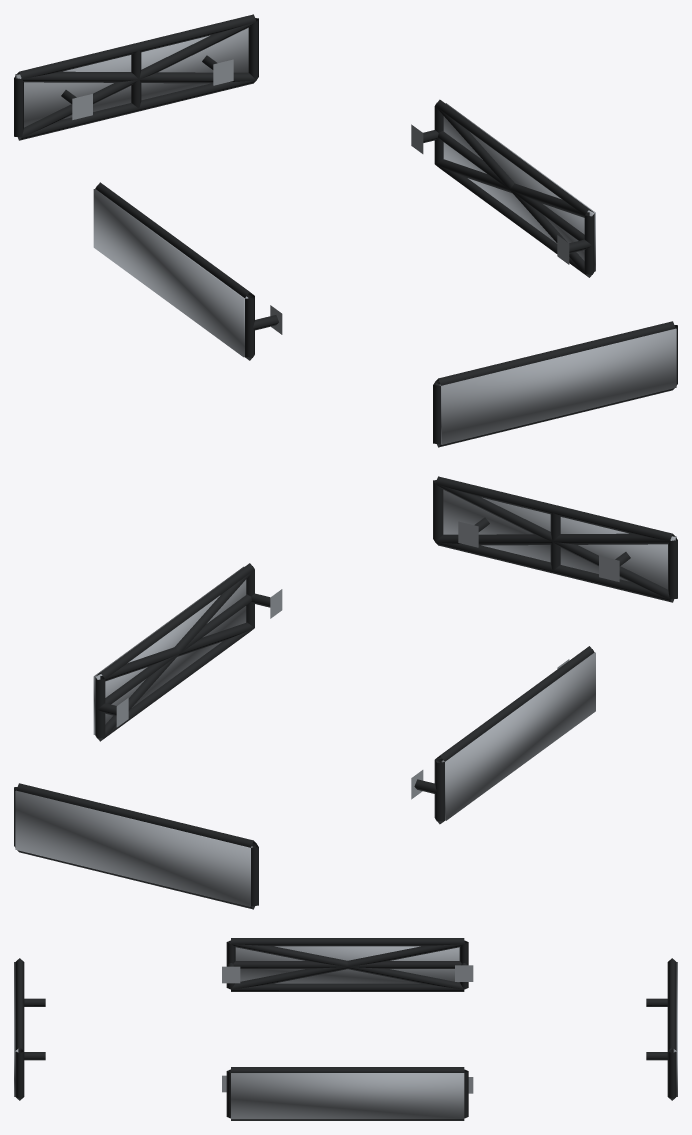
Rendered from sanga_garra_protecao.glb.
The picture shows the model from 3 angles, top to bottom: view 1: azimuth 30°, elevation 25°; view 2: azimuth 150°, elevation 25°; view 3: azimuth 270°, elevation 25°; orthographic projection. The views are drawn at different scales.
Parts seen in each view (by area): view 1: Protection_front_Level3_Details, Protection_left_Level3_Details, Protection_rear_Level1_Details, Protection_rear_Level3_Details, Protection_right_Level1_Details, Protection_rear_Level2_Details, Protection_right_Level2_Details, Protection_right_Level3_Details, Protection_front_Level1_Details, Protection_left_Level1_Details; view 2: Protection_rear_Level3_Details, Protection_left_Level3_Details, Protection_front_Level1_Details, Protection_front_Level3_Details, Protection_right_Level1_Details, Protection_front_Level2_Details, Protection_right_Level2_Details, Protection_right_Level3_Details, Protection_rear_Level1_Details, Protection_left_Level1_Details; view 3: Protection_right_Level3_Details, Protection_left_Level1_Details, Protection_left_Level2_Details, Protection_left_Level3_Details, Protection_right_Level1_Details, Protection_rear_Level1_Details, Protection_front_Level1_Details.
Part boxes in pixels (x1,y1,x2,y2): Protection_front_Level3_Details: (439,328,676,444); Protection_left_Level3_Details: (93,189,248,357); Protection_rear_Level1_Details: (14,14,258,140); Protection_rear_Level3_Details: (15,28,248,127); Protection_right_Level1_Details: (411,99,594,277); Protection_rear_Level2_Details: (16,22,256,139); Protection_right_Level2_Details: (435,106,593,277); Protection_right_Level3_Details: (443,103,595,271); Protection_front_Level1_Details: (433,321,677,447); Protection_left_Level1_Details: (95,182,282,360); Protection_rear_Level3_Details: (15,790,252,906); Protection_left_Level3_Details: (441,652,595,820); Protection_front_Level1_Details: (433,476,677,602); Protection_front_Level3_Details: (443,490,676,589); Protection_right_Level1_Details: (95,563,282,741); Protection_front_Level2_Details: (435,484,675,601); Protection_right_Level2_Details: (96,570,254,740); Protection_right_Level3_Details: (93,566,246,734); Protection_rear_Level1_Details: (14,783,258,909); Protection_left_Level1_Details: (411,646,594,824); Protection_right_Level3_Details: (231,1073,464,1119); Protection_left_Level1_Details: (222,938,473,991); Protection_left_Level2_Details: (230,942,464,989); Protection_left_Level3_Details: (235,946,459,983); Protection_right_Level1_Details: (222,1067,473,1120); Protection_rear_Level1_Details: (646,958,676,1100); Protection_front_Level1_Details: (15,958,45,1100).
Size of the model in its own units: 1.89 by 0.354 by 3.96.
1 material, 1 textured.
